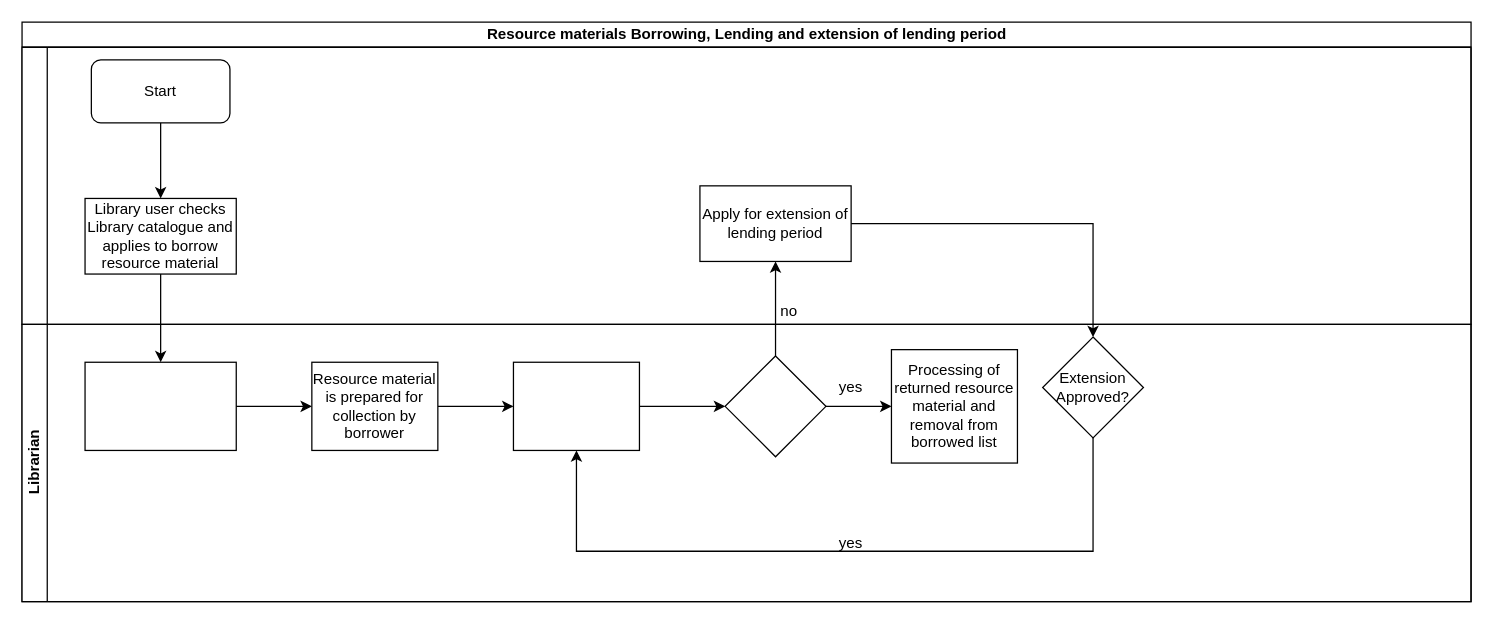
Image size: 1493x624. Some labels were removed from this diagram. The box of each missing label's shape, as (x1, y1, x2, y2) in pixels:
Automatic reminder on expiry of the 2 week lending period: (512, 361, 639, 450)
MCA/Staff: (21, 46, 1471, 324)
Resource material is processed for lending for a maximum of 2 weeks: (84, 361, 236, 450)
Resource returned?: (724, 355, 826, 457)
